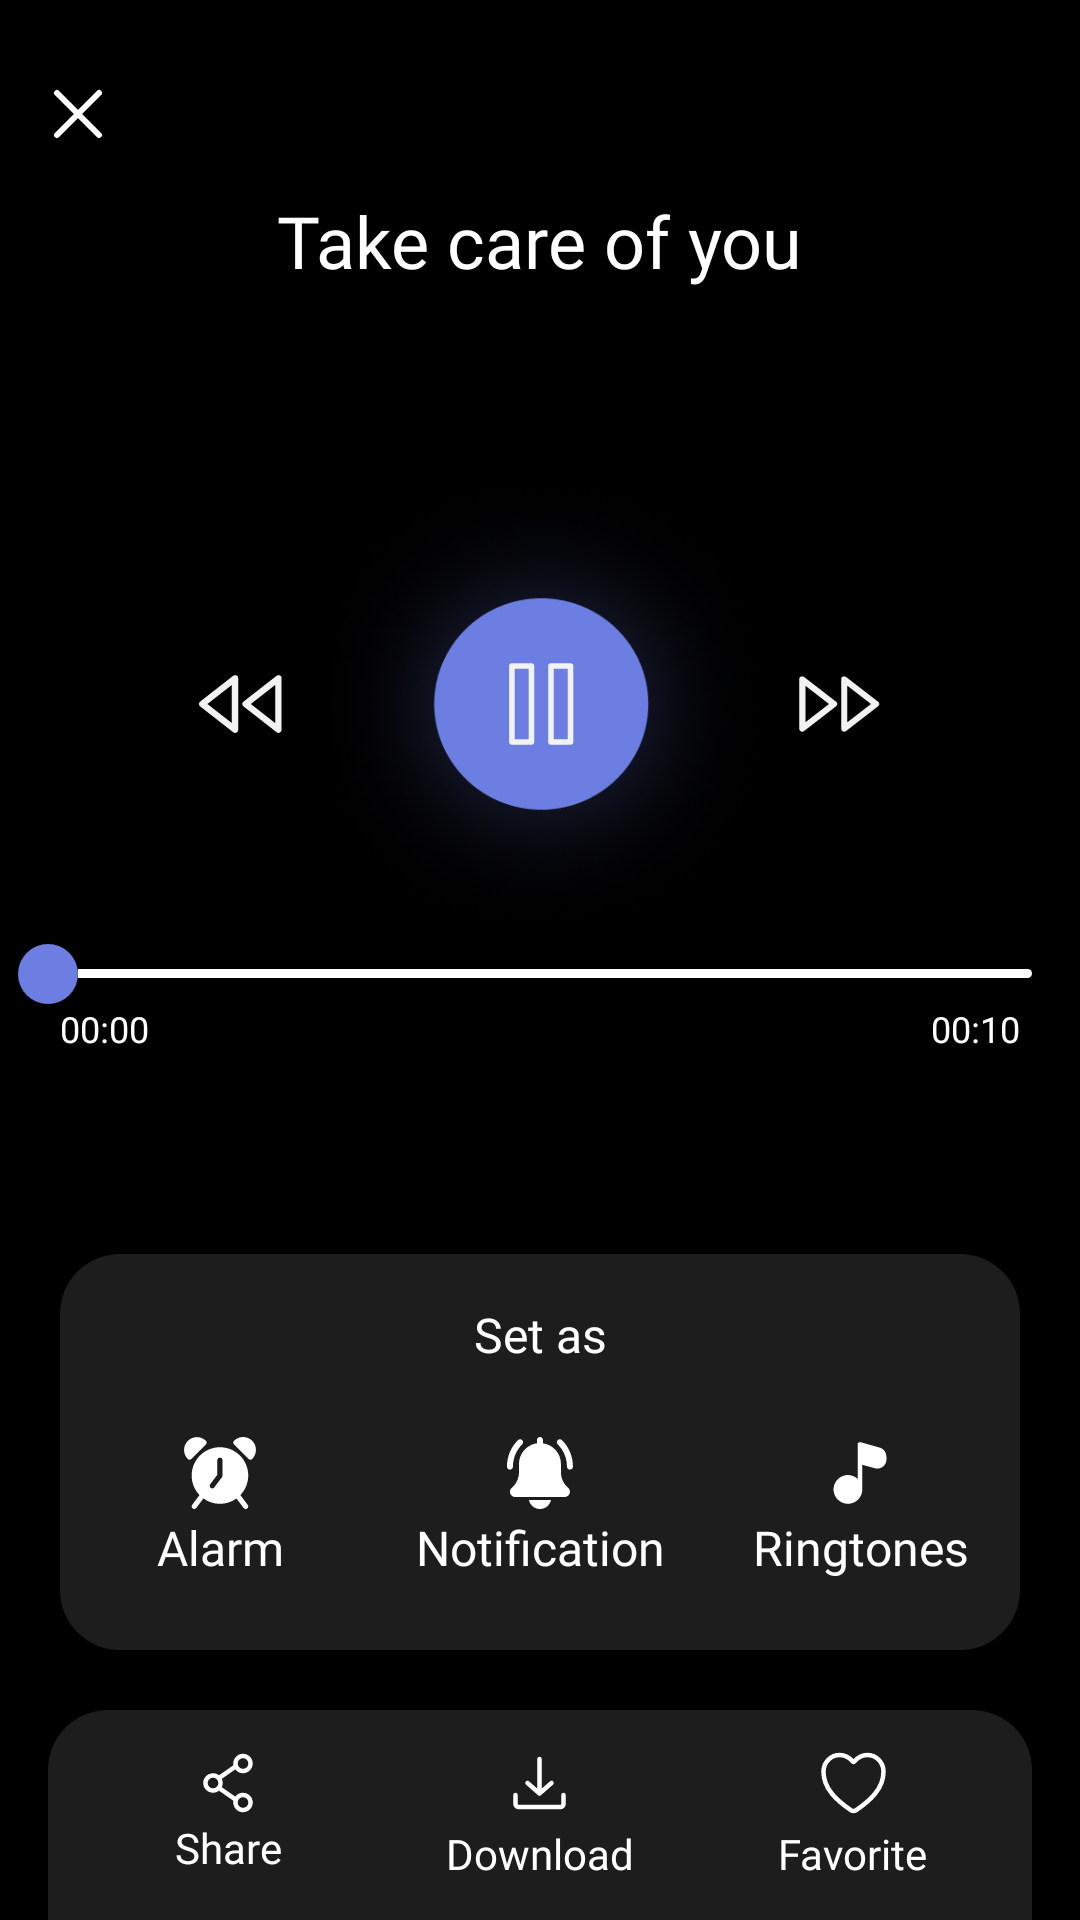

Locate icon controls on the screen. Image size 1080 x 1920, boxes as [x1,y1,x2,y2].
back voice: [199,675,282,733]
close: [54,89,102,138]
next voice: [799,676,880,732]
pause: [420,583,662,824]
